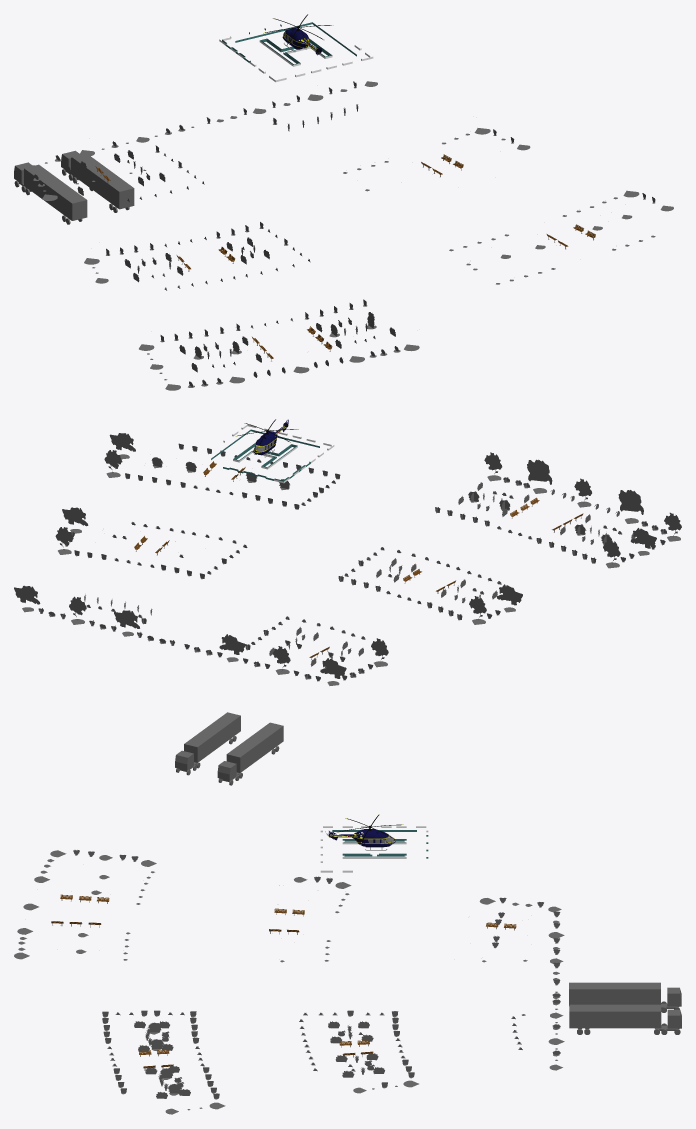
Rendered from site.glb.
3 renders of one model, top to bottom at view 1: azimuth 30°, elevation 25°; view 2: azimuth 150°, elevation 25°; view 3: azimuth 270°, elevation 25°, orthographic. The views are drawn at different scales.
Visible parts, largest first — view 1: rpc, helipad, wood_rough; view 2: rpc, helipad, wood_rough; view 3: rpc, wood_rough, helipad.
Part boxes in pixels (box(x1,y1,x2,y2)): rpc: box(14, 14, 673, 390); helipad: box(219, 22, 373, 82); wood_rough: box(95, 154, 595, 358); rpc: box(14, 419, 681, 785); helipad: box(211, 424, 334, 483); wood_rough: box(134, 461, 583, 657); rpc: box(14, 814, 681, 1114); wood_rough: box(51, 894, 516, 1068); helipad: box(320, 826, 428, 872).
Bounding box in the file's own units: 94.79 × 39 × 99.37.
